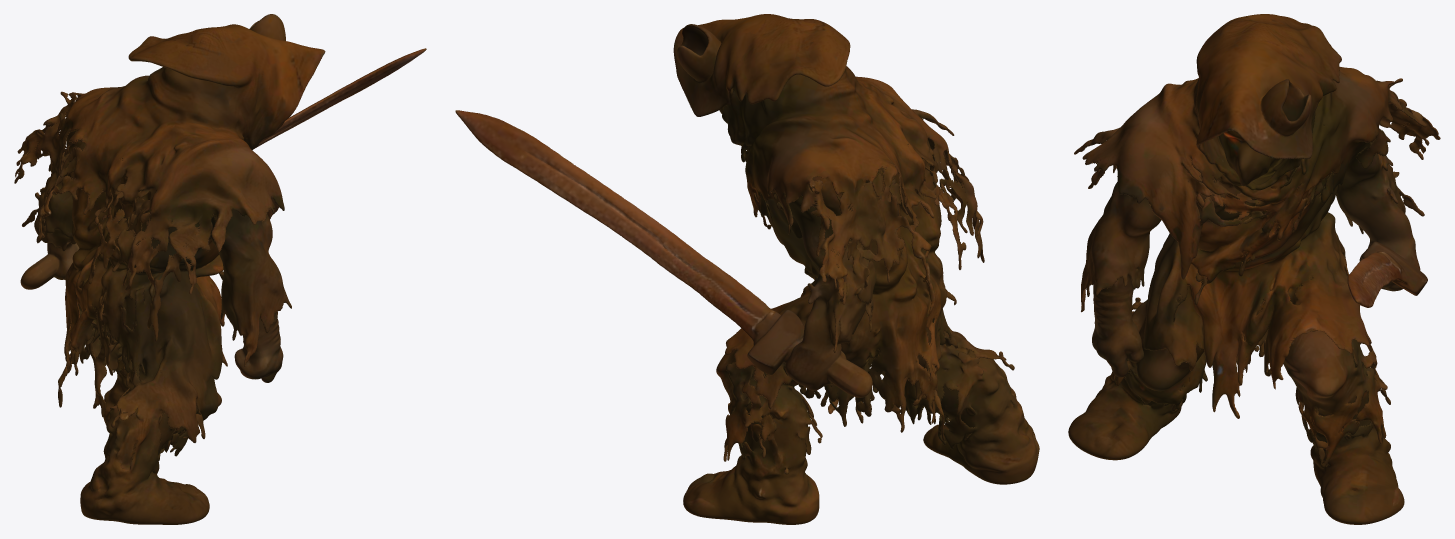
3 views of the same model, side by side, from view 1: azimuth 30°, elevation 25°; view 2: azimuth 150°, elevation 25°; view 3: azimuth 270°, elevation 25° (orthographic). The views are drawn at different scales.
Parts seen in each view (by area): view 1: tripo_node_d8811380-f2f8-4634-ab1b-3151a41142bd; view 2: tripo_node_d8811380-f2f8-4634-ab1b-3151a41142bd; view 3: tripo_node_d8811380-f2f8-4634-ab1b-3151a41142bd.
Boxes of the visible parts, x1,y1,x2,y2 form: tripo_node_d8811380-f2f8-4634-ab1b-3151a41142bd: [14, 14, 426, 524]; tripo_node_d8811380-f2f8-4634-ab1b-3151a41142bd: [455, 14, 1039, 524]; tripo_node_d8811380-f2f8-4634-ab1b-3151a41142bd: [1068, 14, 1440, 524].
Size of the model in its own units: 1 by 0.9144 by 0.6487.
Materials: 1 (1 with a texture image).
